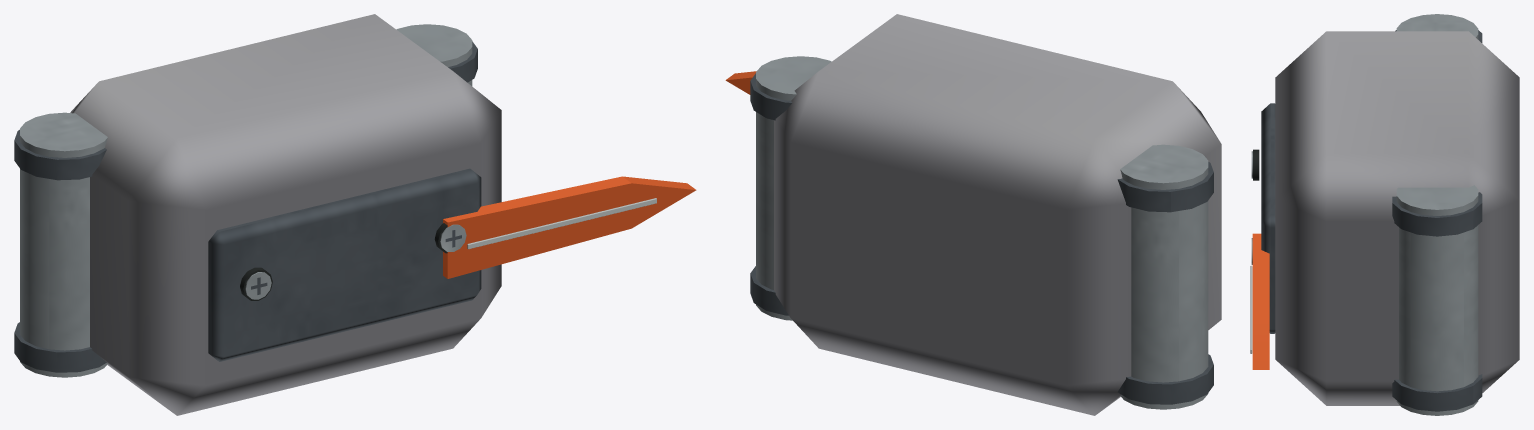
Rendered from accel_proof_mass.fbx.
The picture shows the model from 3 angles, left to right: view 1: azimuth 30°, elevation 25°; view 2: azimuth 150°, elevation 25°; view 3: azimuth 270°, elevation 25°; orthographic projection. The views are drawn at different scales.
Parts seen in each view (by area): view 1: SM_accel_proof_mass; view 2: SM_accel_proof_mass; view 3: SM_accel_proof_mass.
Part boxes in pixels (left/top/right/bottom): SM_accel_proof_mass: left=14, top=14, right=696, bottom=415; SM_accel_proof_mass: left=725, top=14, right=1221, bottom=415; SM_accel_proof_mass: left=1250, top=14, right=1519, bottom=415.
Bounding box in the file's own units: 0.1061 × 0.049 × 0.0474.
Materials: 8 (6 with a texture image).
